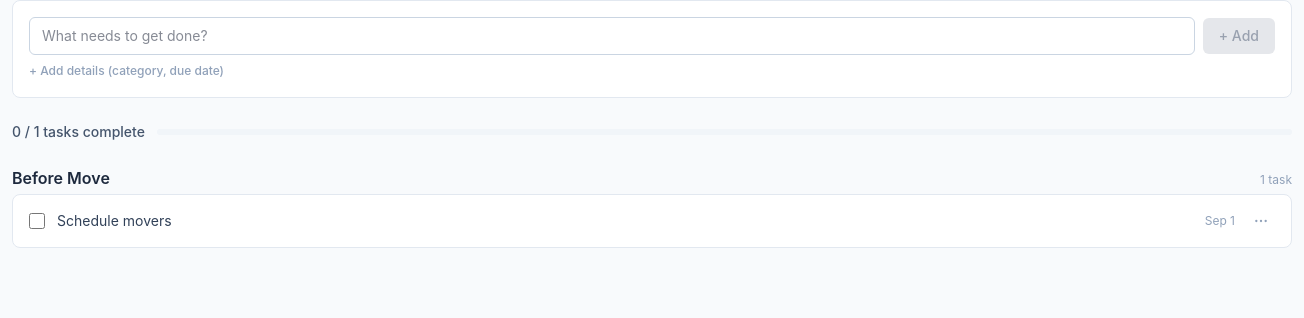
Test: ChecklistPage › reveals category and due date only when details are requested
Expected: the text "Schedule movers" is shown, [57, 212, 172, 229]
Click the button "+ Add details (category, due date)" at (126, 71), box [29, 63, 224, 79]
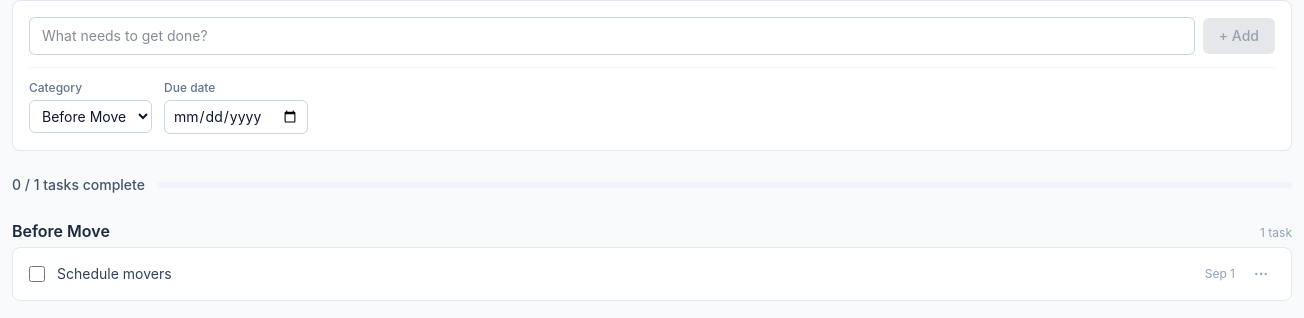
Now the dropdown is shown, box [29, 100, 152, 133]
